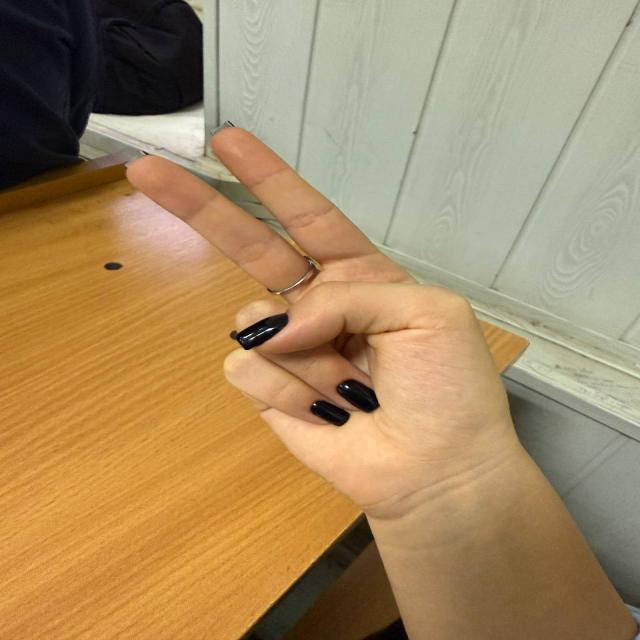k: (95, 105, 518, 495), (95, 120, 114, 127)
